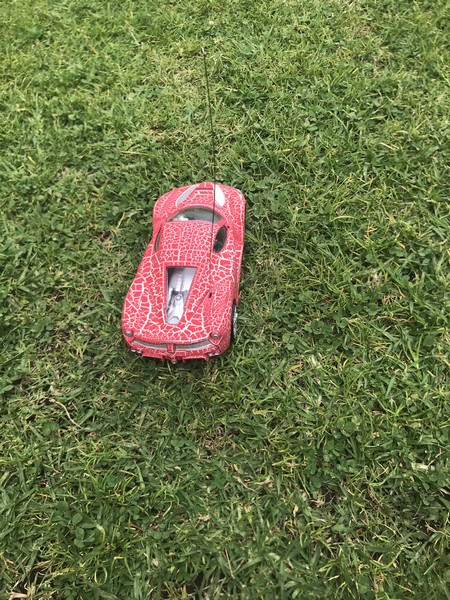RC: (119, 179, 247, 364)
